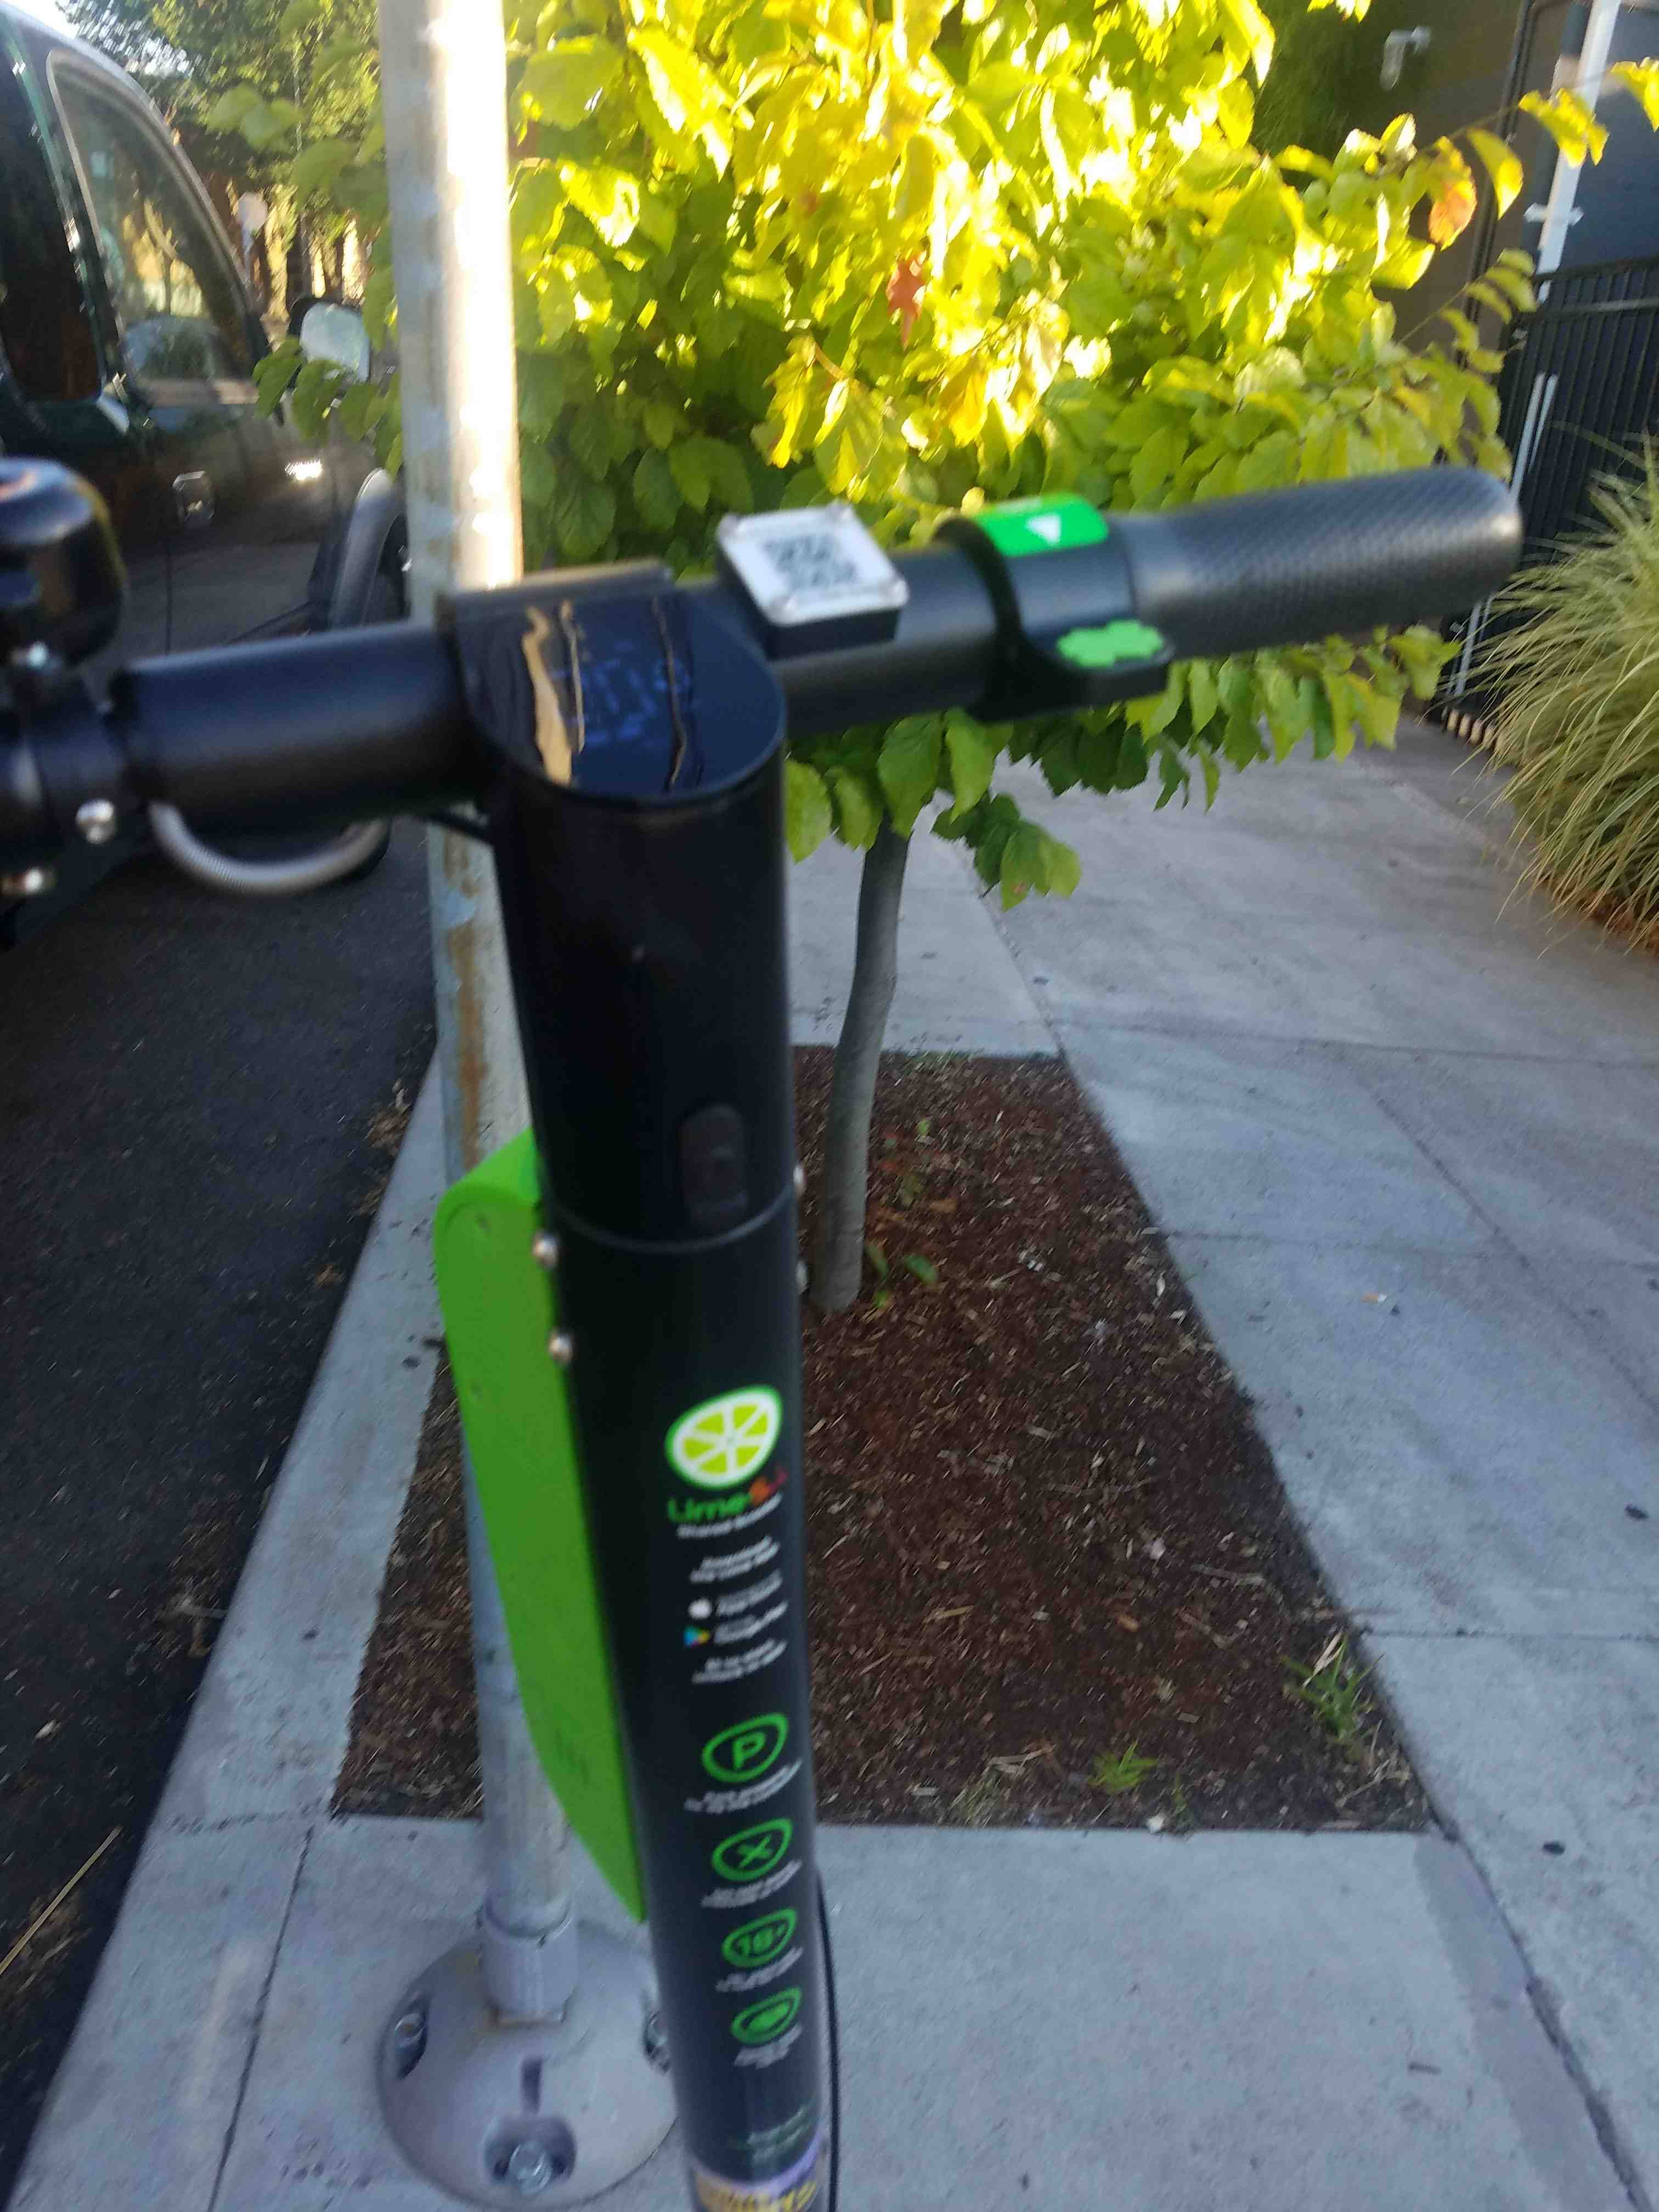scooter: (12, 373, 1617, 2212)
